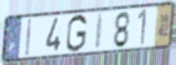1: (137, 8, 148, 47)
4: (45, 16, 62, 54)
8: (113, 9, 131, 51)
G: (65, 13, 89, 54)
I: (94, 12, 105, 51), (24, 18, 33, 57)
